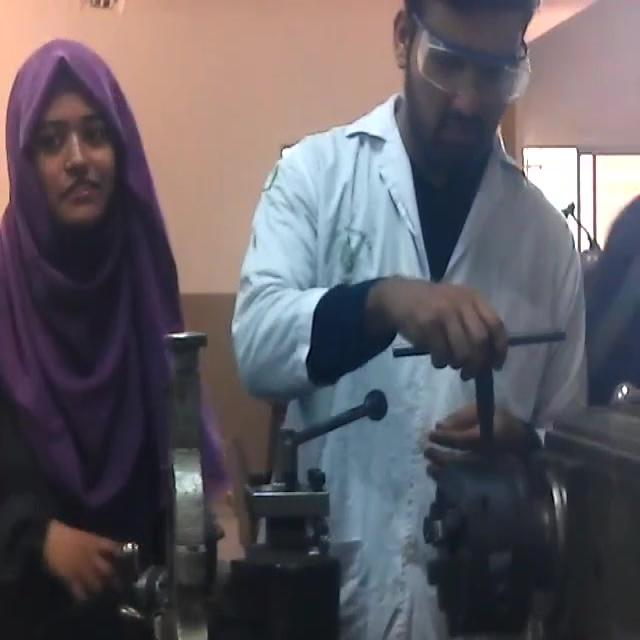googles: (413, 25, 532, 120)
labcoat: (225, 84, 592, 640)
